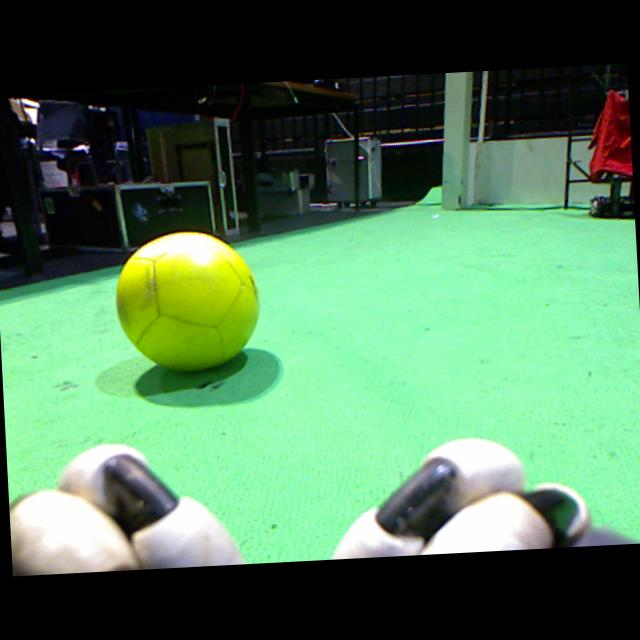ball: (116, 233, 259, 370)
goal: (442, 73, 466, 210)
